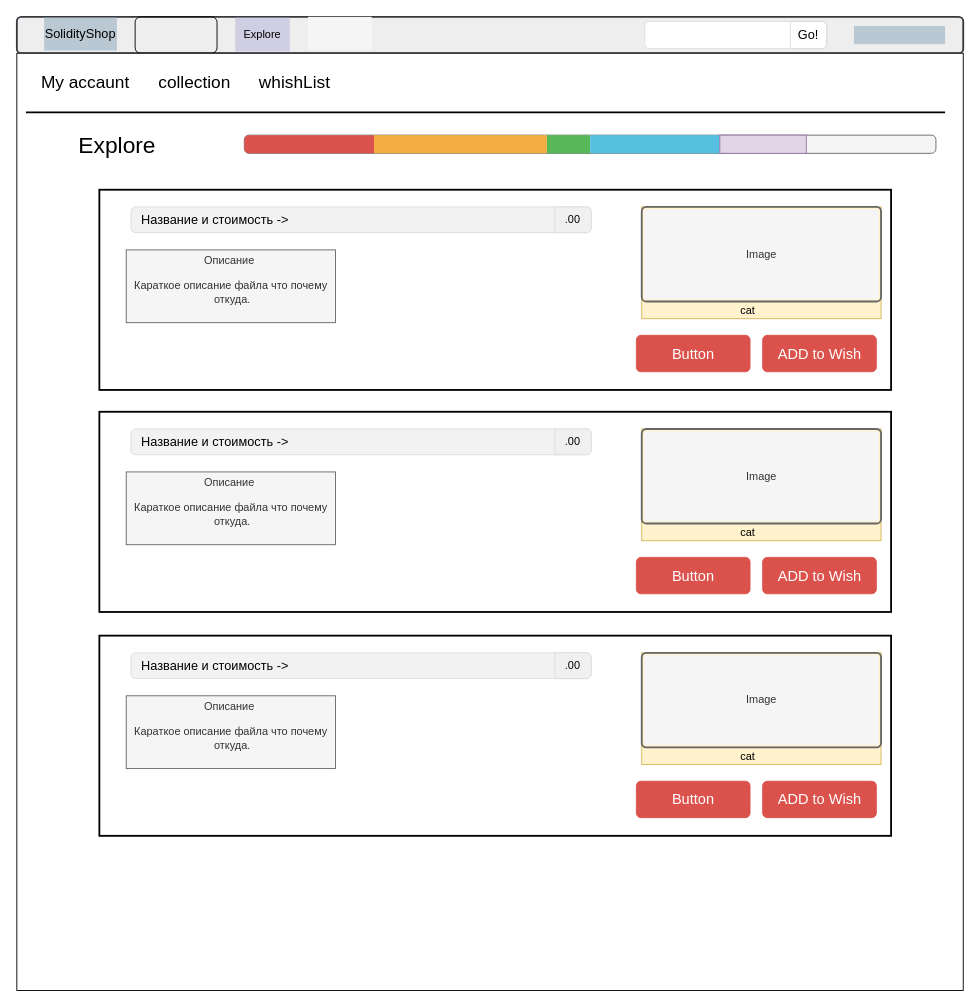
The diagram is 979 pixels wide and 1006 high, and some of its shapes have lost their labels. Each missing label, with the box of its shape:
Add: (308, 16, 371, 49)
Dashboard: (134, 16, 217, 53)
Personal Category satistic: (590, 135, 719, 153)
Search...: (644, 20, 827, 49)
Sing in / Join: (854, 25, 945, 44)
